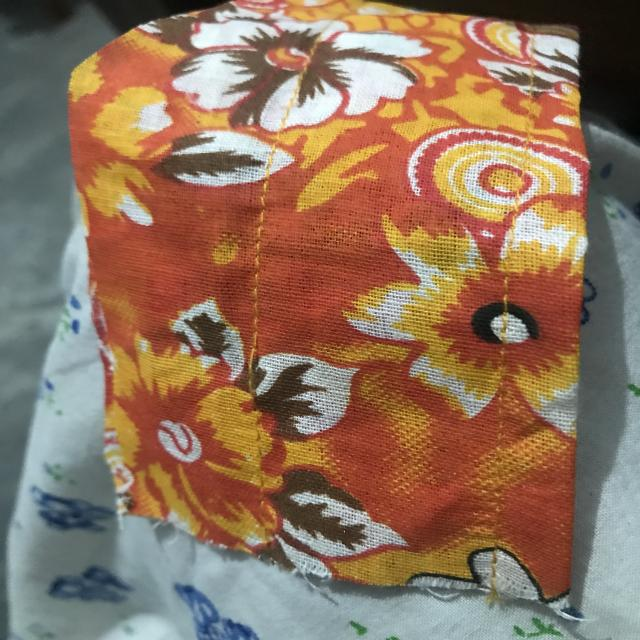good: (242, 214, 270, 291)
skip: (226, 331, 270, 403)
